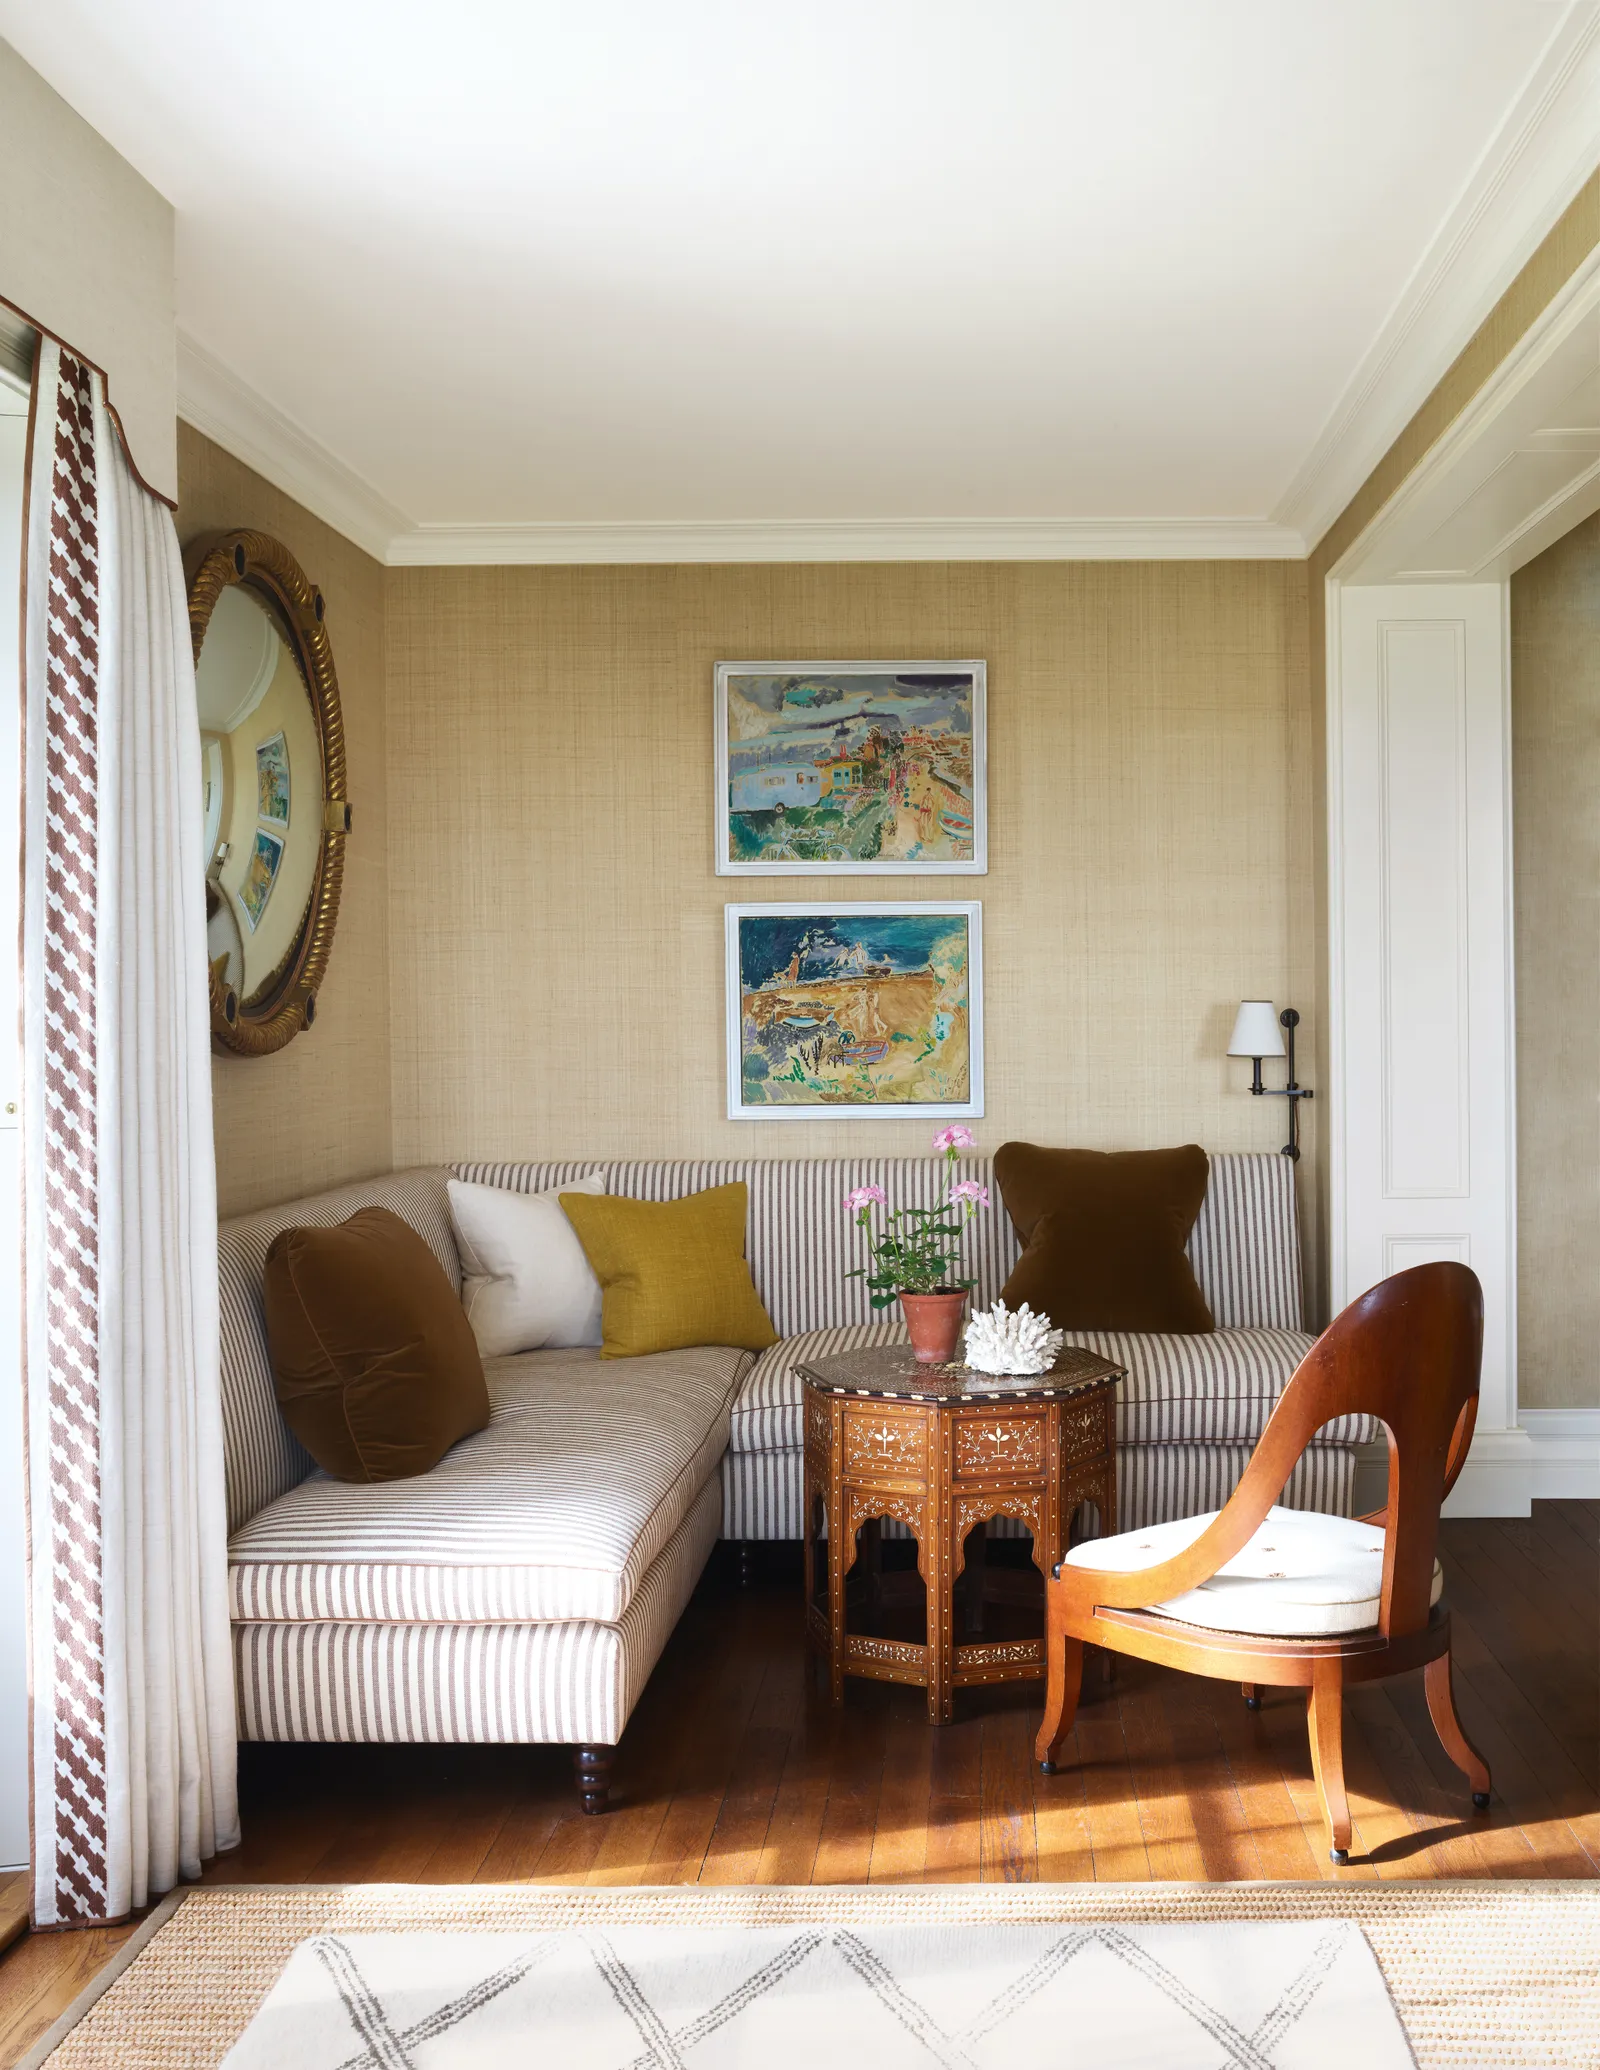chair: (1035, 1250, 1509, 1811)
floor lamp: (1217, 988, 1329, 1146)
flower vase: (830, 1156, 997, 1364)
sofa: (188, 1132, 1365, 1805)
table: (797, 1346, 1129, 1737)
wall art: (713, 649, 997, 889), (721, 901, 988, 1131)
